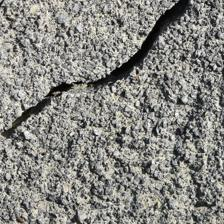Crack: (4, 3, 185, 140)
